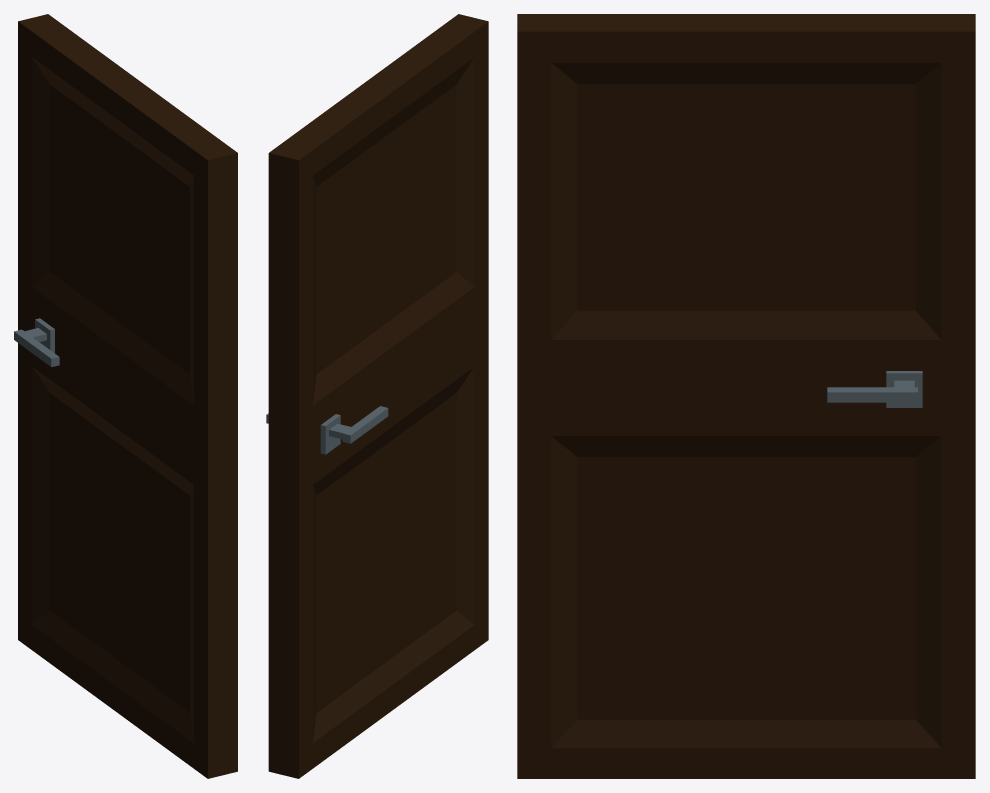
Rendered from door.fbx.
The picture shows the model from 3 angles, left to right: view 1: azimuth 30°, elevation 25°; view 2: azimuth 150°, elevation 25°; view 3: azimuth 270°, elevation 25°; orthographic projection. The views are drawn at different scales.
Parts seen in each view (by area): view 1: Box013; view 2: Box013; view 3: Box013.
Part boxes in pixels (x1,y1,x2,y2): Box013: (14, 14, 237, 778); Box013: (266, 14, 488, 778); Box013: (517, 14, 975, 778).
Bounding box in the file's own units: 31.99 × 224 × 125.
